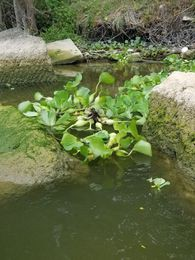water_hyacinth: (28, 72, 156, 167)
